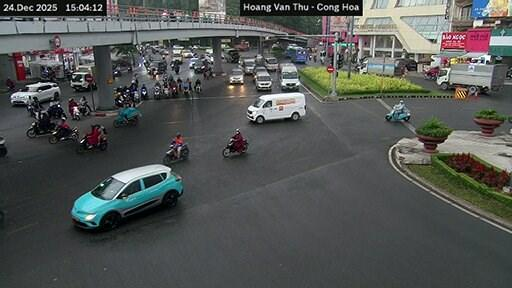motorbike: (76, 135, 106, 153), (221, 138, 248, 157), (163, 143, 188, 163), (48, 126, 77, 143), (112, 109, 140, 126), (25, 121, 56, 136), (384, 104, 409, 120), (48, 102, 64, 117), (26, 103, 41, 117), (422, 67, 438, 79), (41, 68, 54, 81), (0, 135, 6, 156), (70, 108, 80, 120), (77, 103, 89, 113), (131, 90, 140, 102), (170, 85, 178, 97), (153, 85, 159, 99), (163, 85, 169, 97), (112, 67, 120, 76), (140, 89, 147, 99), (182, 86, 188, 97), (505, 67, 511, 76), (173, 64, 179, 72), (195, 84, 201, 91), (103, 131, 105, 133)
